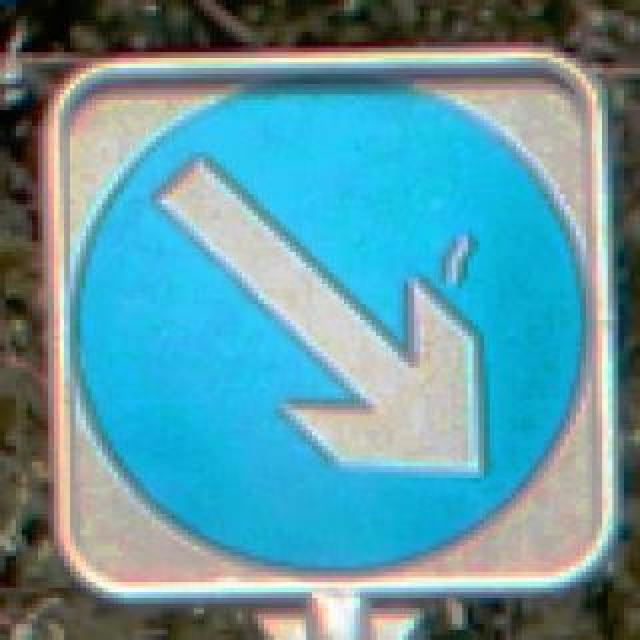keep right: (66, 72, 586, 572)
